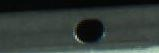holes: (74, 16, 105, 47)
